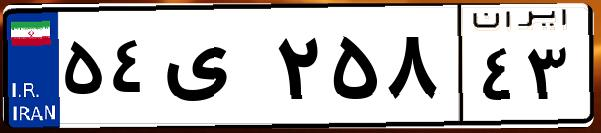2: (270, 28, 330, 110)
3: (525, 38, 570, 115)
4: (475, 38, 525, 113), (110, 28, 158, 98)
5: (330, 28, 385, 110), (57, 26, 110, 100)
8: (385, 28, 445, 110)
ی: (158, 20, 270, 120)
